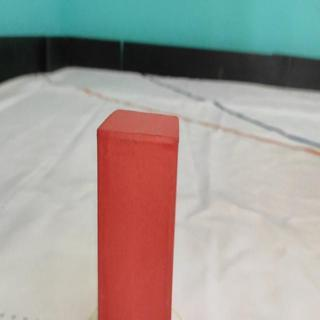redbox: (95, 107, 180, 320)
